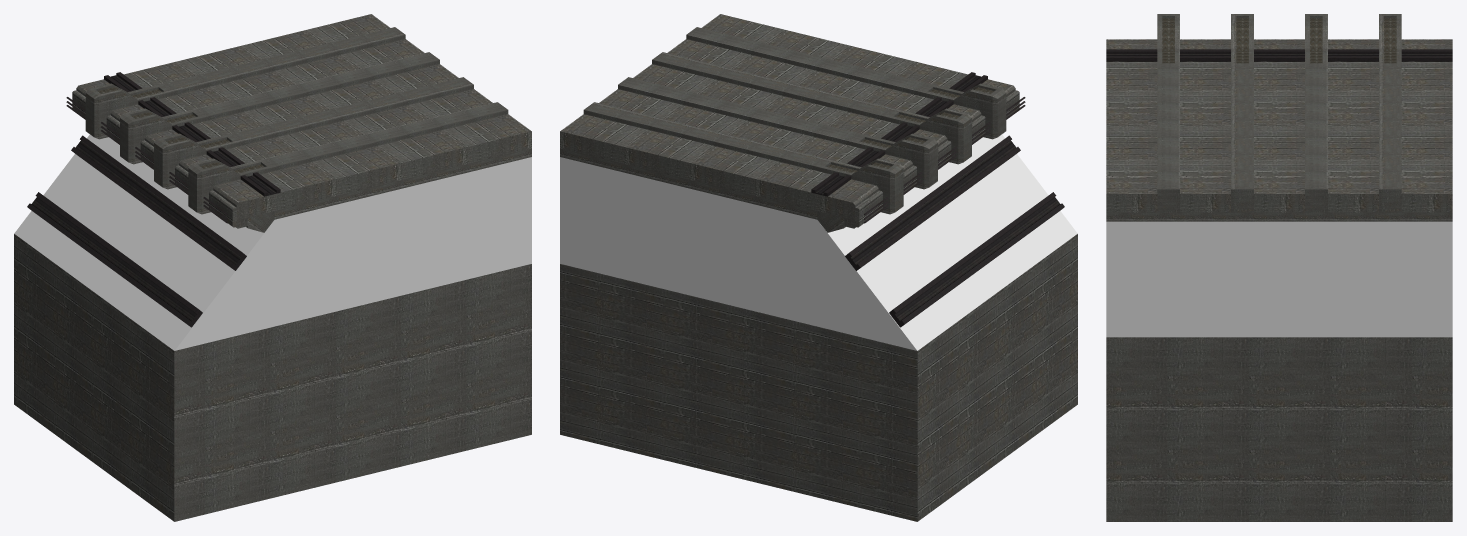
The model's file is wall_tilable2.fbx.
3 views of the same model, side by side, from view 1: azimuth 30°, elevation 25°; view 2: azimuth 150°, elevation 25°; view 3: azimuth 270°, elevation 25° (orthographic). The views are drawn at different scales.
Parts seen in each view (by area): view 1: Object; view 2: Object; view 3: Object.
Part boxes in pixels (x1,y1,x2,y2): Object: (14, 14, 531, 521); Object: (560, 14, 1077, 521); Object: (1106, 14, 1452, 521).
Size of the model in its own units: 8750 by 7500 by 6800.
